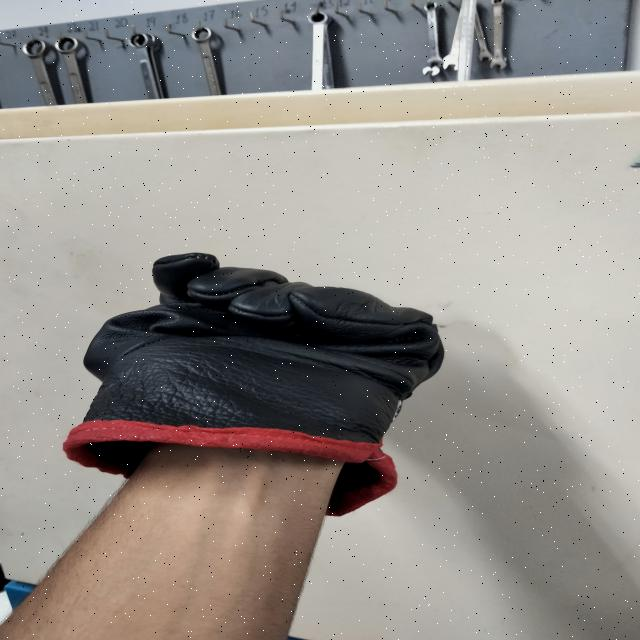Gloves: (35, 254, 482, 496)
